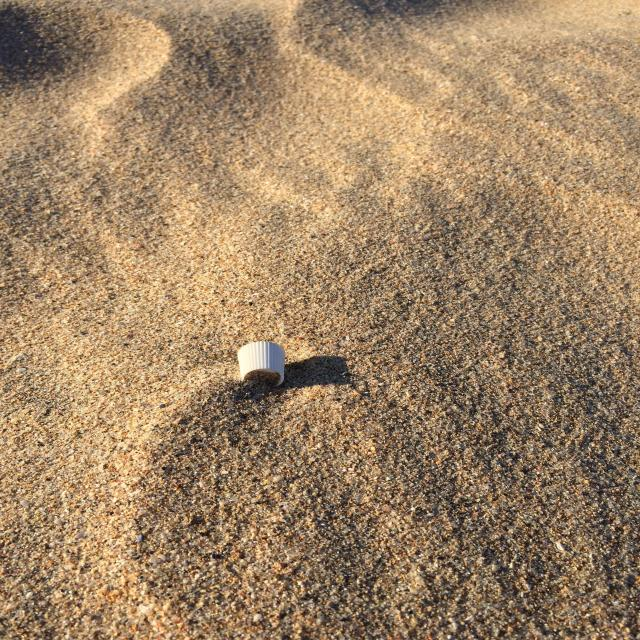Plastic bottle cap: (238, 342, 285, 386)
